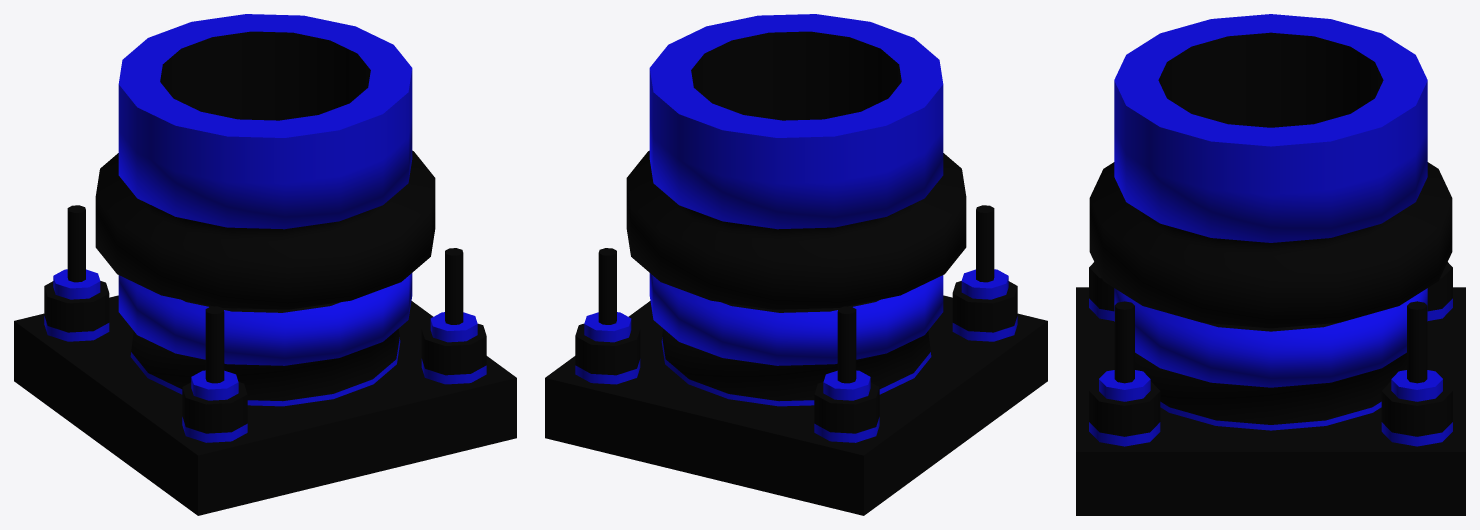
The model's file is Tower.fbx.
3 views of the same model, side by side, from view 1: azimuth 30°, elevation 25°; view 2: azimuth 150°, elevation 25°; view 3: azimuth 270°, elevation 25° (orthographic). The views are drawn at different scales.
Parts seen in each view (by area): view 1: Base_Tower; view 2: Base_Tower; view 3: Base_Tower.
Part boxes in pixels (bbox=[...]): Base_Tower: bbox=[14, 14, 516, 515]; Base_Tower: bbox=[545, 14, 1047, 515]; Base_Tower: bbox=[1076, 14, 1465, 515].
Size of the model in its own units: 200 by 200 by 200.
